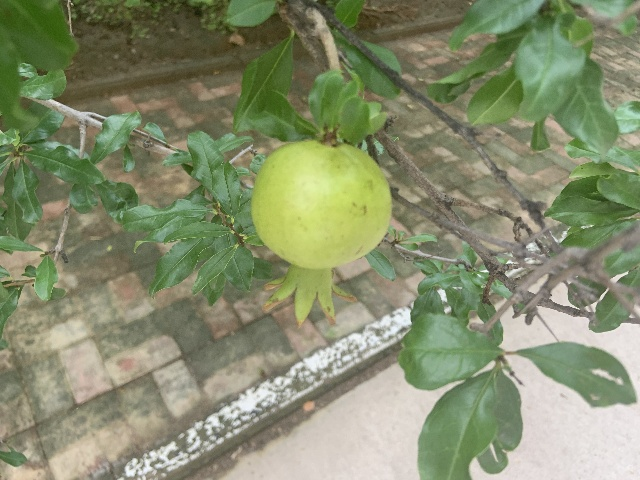mid-growth: (249, 139, 392, 329)
